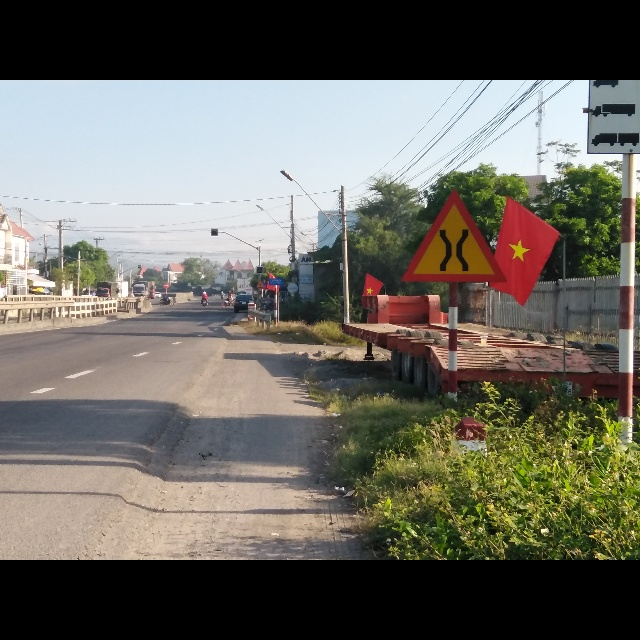Cầu hẹp: (403, 185, 509, 281)
